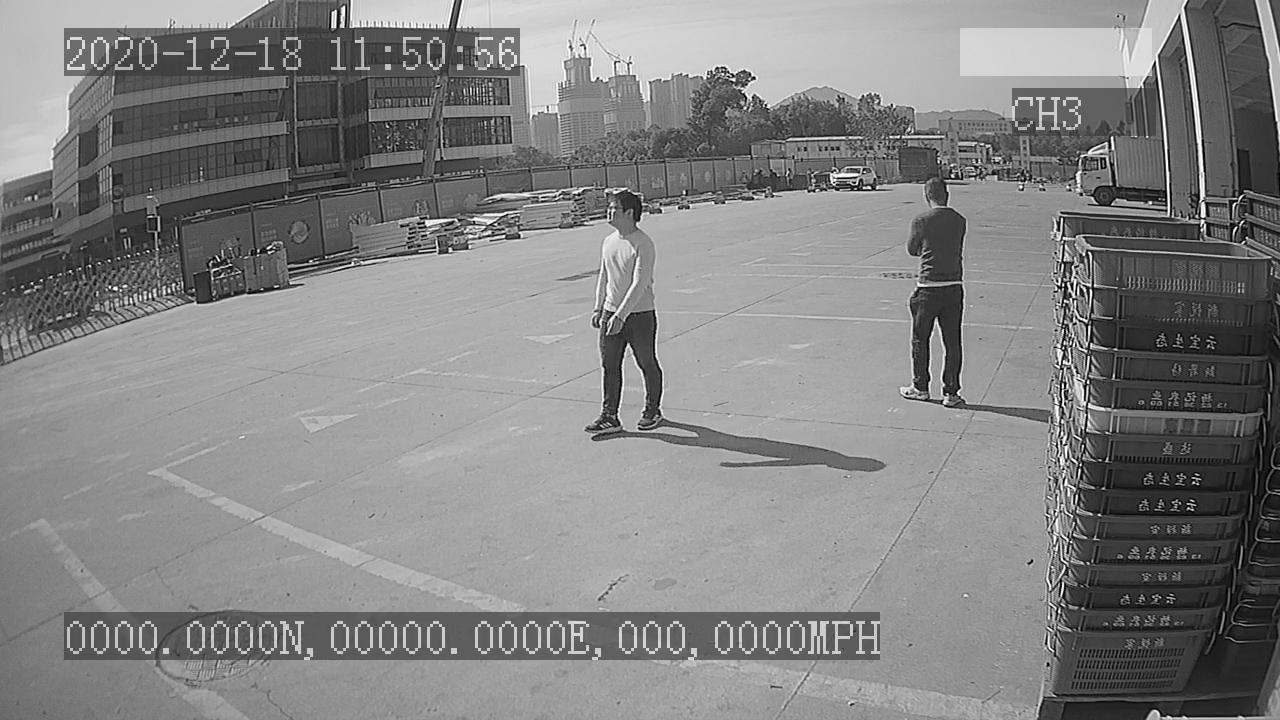person: (576, 183, 668, 444), (895, 170, 974, 410)
